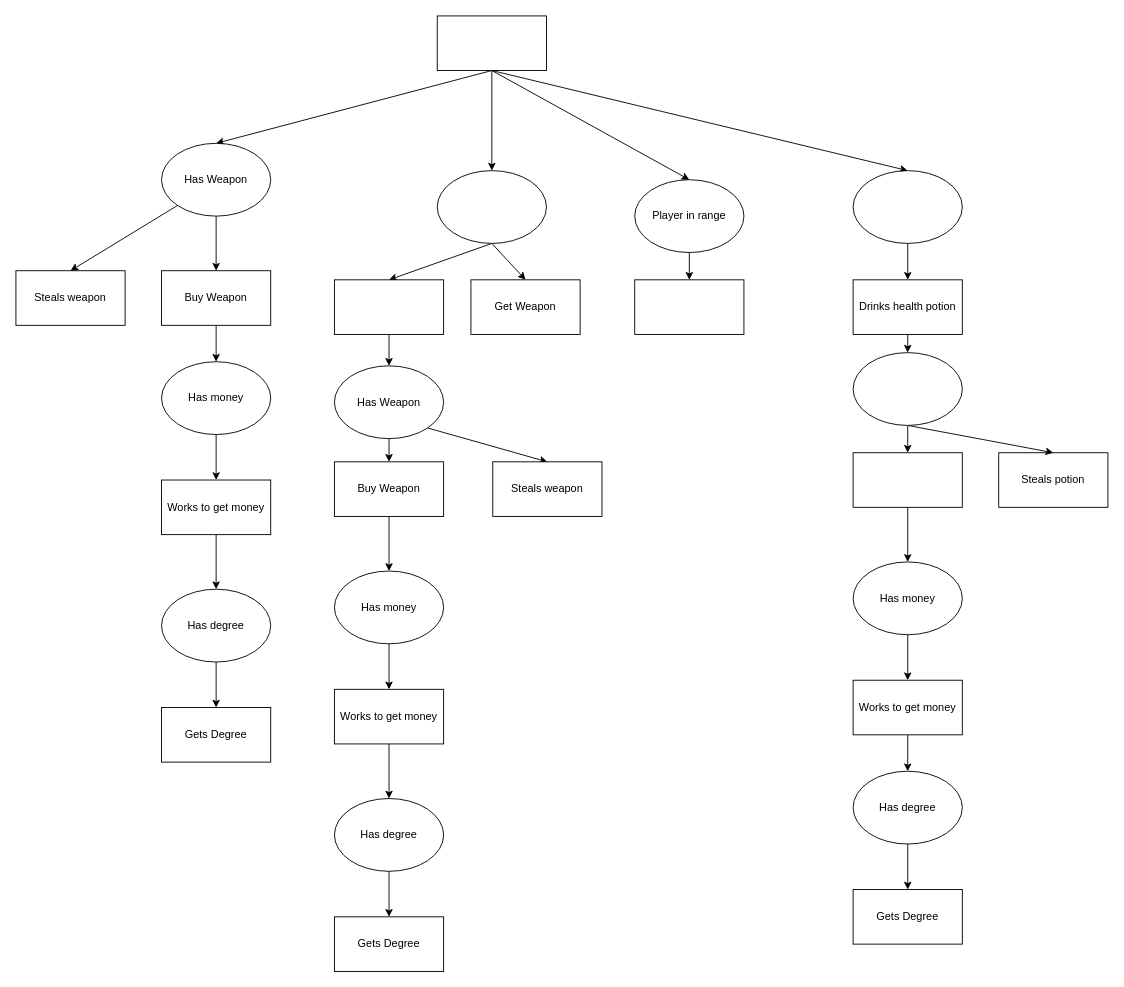
Image size: 1124x987. Some labels were removed from this diagram. The shapes that lost their labels are listed below. From the top down, each one's box as (x1, y1, x2, y2) in pixels, then its label:
(436, 15, 546, 71): Attack Player
(436, 170, 546, 243): Has Ammo
(852, 170, 962, 243): Is healthy
(334, 279, 444, 334): Reload
(634, 279, 744, 334): Move in range
(852, 352, 962, 425): Has health potion
(852, 452, 962, 507): Buys health potion
